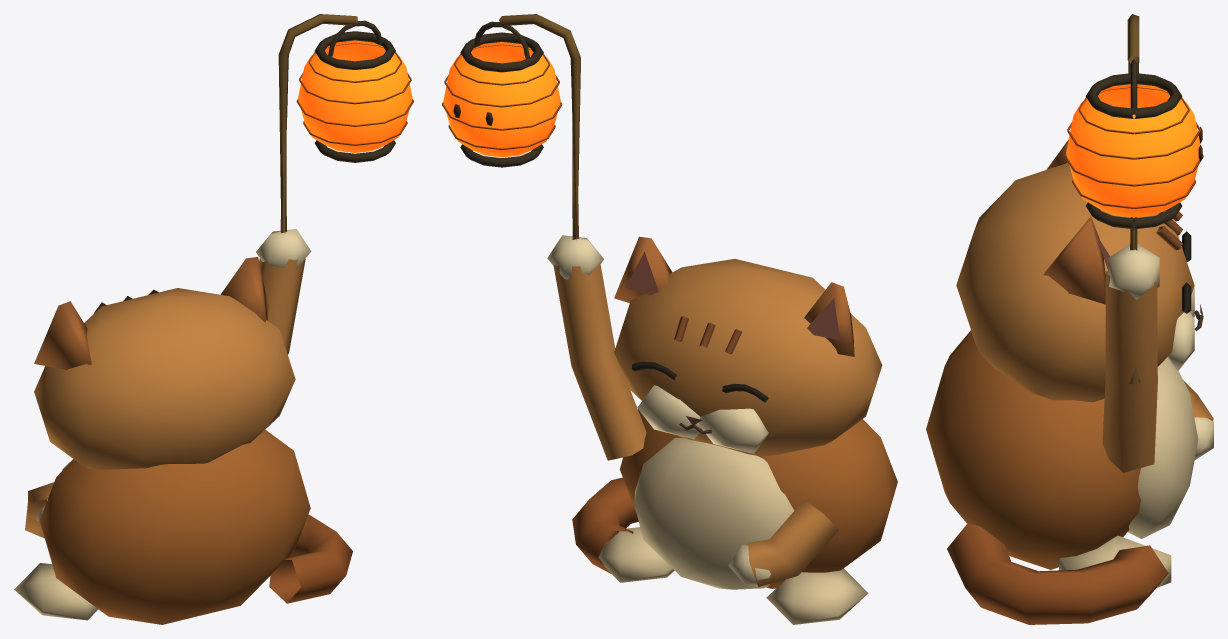
The model's file is nyanisyarud-yokai-lantern-cat.glb.
3 views of the same model, side by side, from view 1: azimuth 30°, elevation 25°; view 2: azimuth 150°, elevation 25°; view 3: azimuth 270°, elevation 25° (orthographic). The views are drawn at different scales.
Parts seen in each view (by area): view 1: Round_Cat_Raising_Lantern_Above_Head; view 2: Round_Cat_Raising_Lantern_Above_Head; view 3: Round_Cat_Raising_Lantern_Above_Head.
Part boxes in pixels (x1,y1,x2,y2): Round_Cat_Raising_Lantern_Above_Head: [14, 14, 413, 624]; Round_Cat_Raising_Lantern_Above_Head: [442, 14, 897, 624]; Round_Cat_Raising_Lantern_Above_Head: [926, 14, 1213, 624].
Size of the model in its own units: 1.42 by 1.84 by 0.7612.
1 material, 1 textured.
